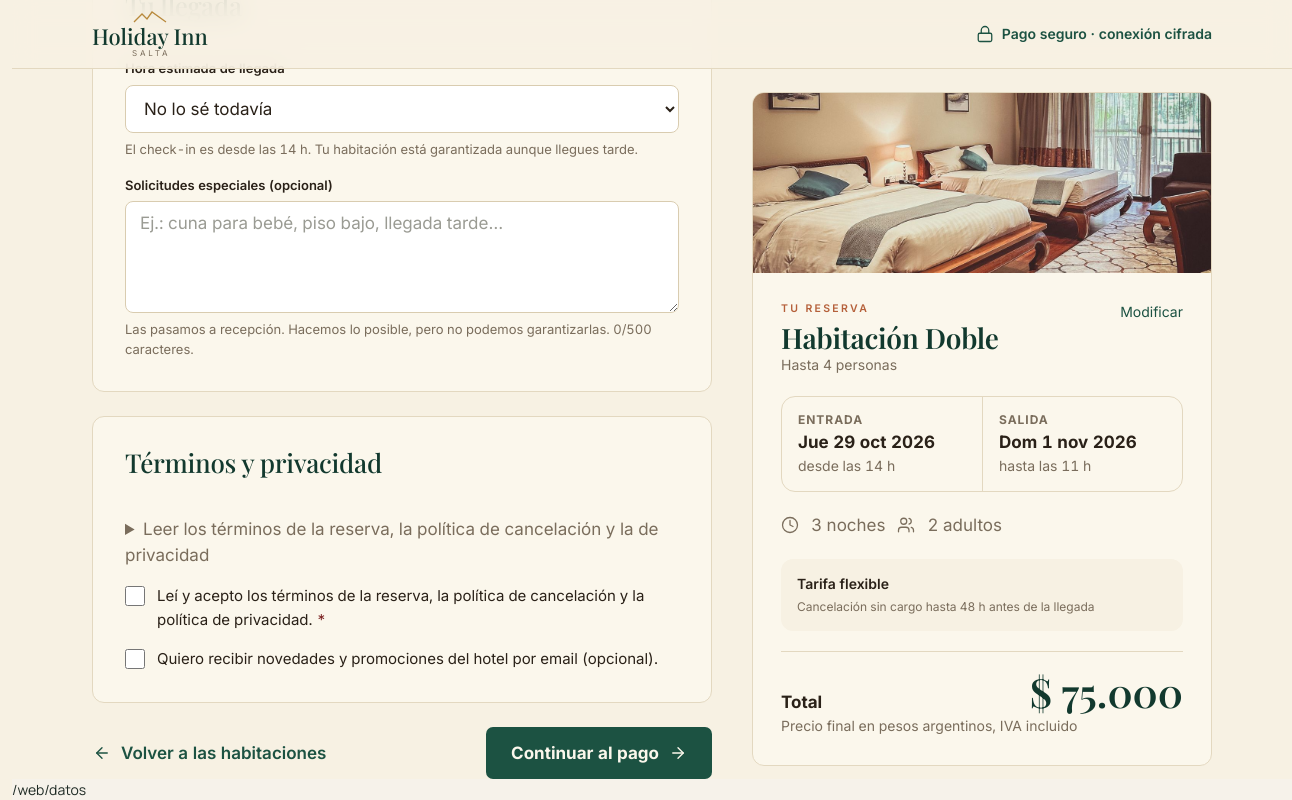
Test case: /web/datos (HU-101) › sin datos no avanza: marca los obligatorios y el consentimiento, y enfoca el primero
(page scrolled)
Click the button "Continuar al pago".
click(599, 753)  # box [486,727,712,779]
(page scrolled)
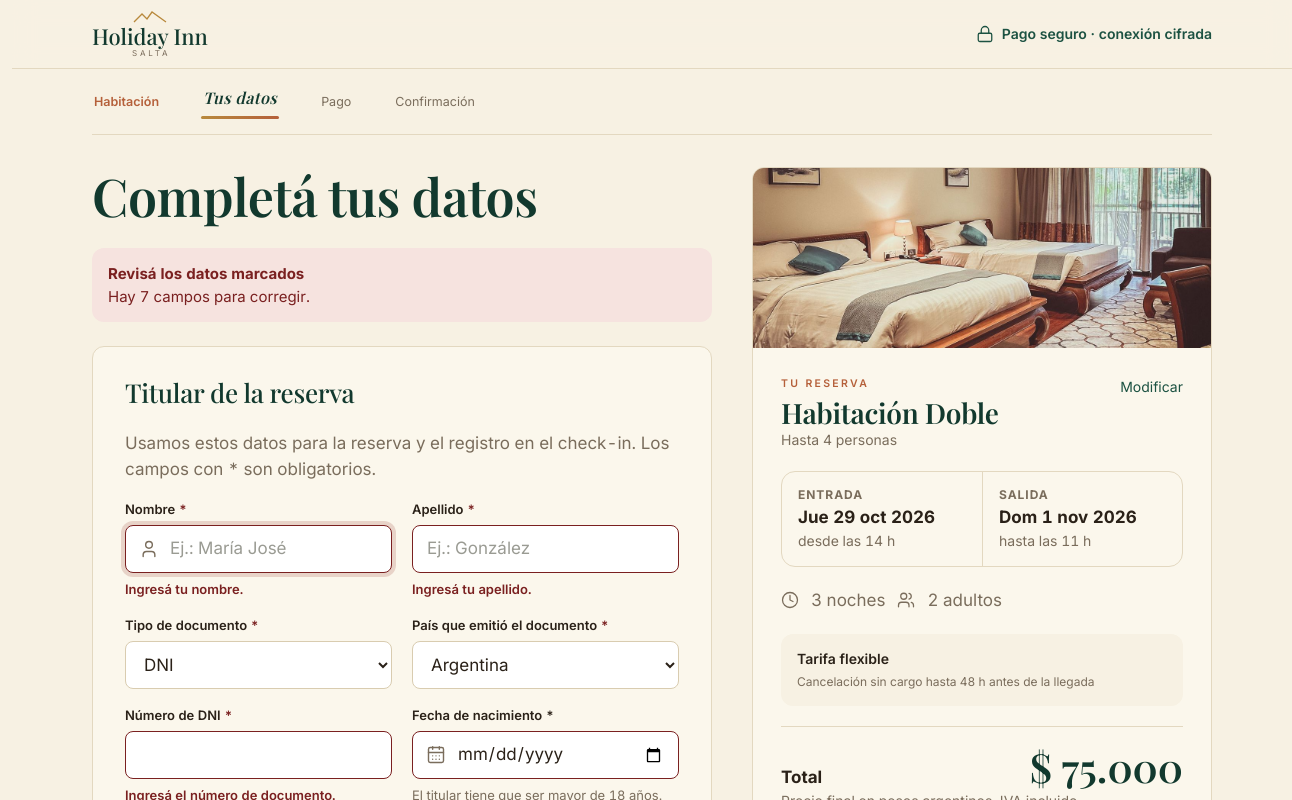
Now the text "Ingresá tu nombre." is shown, box [125,581,243,597]
Now the message shows "Revisá los datos marcados", box [108,264,304,283]
